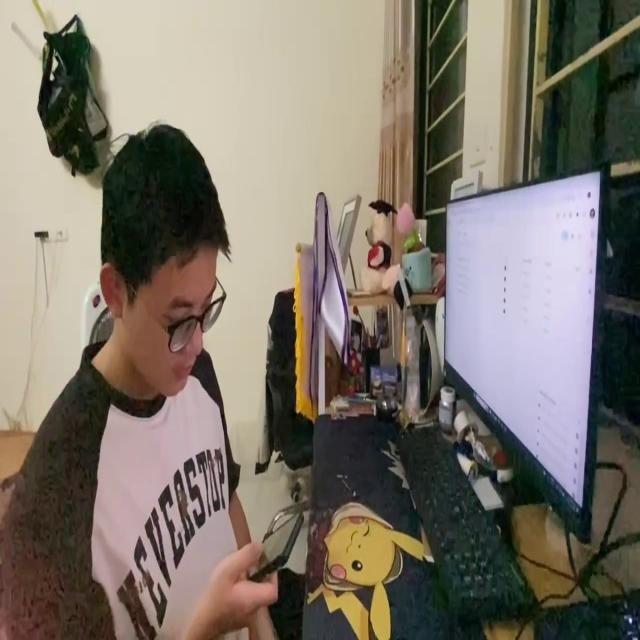laptop: (427, 164, 615, 550)
phone: (248, 509, 302, 572)
student: (3, 115, 300, 640)
